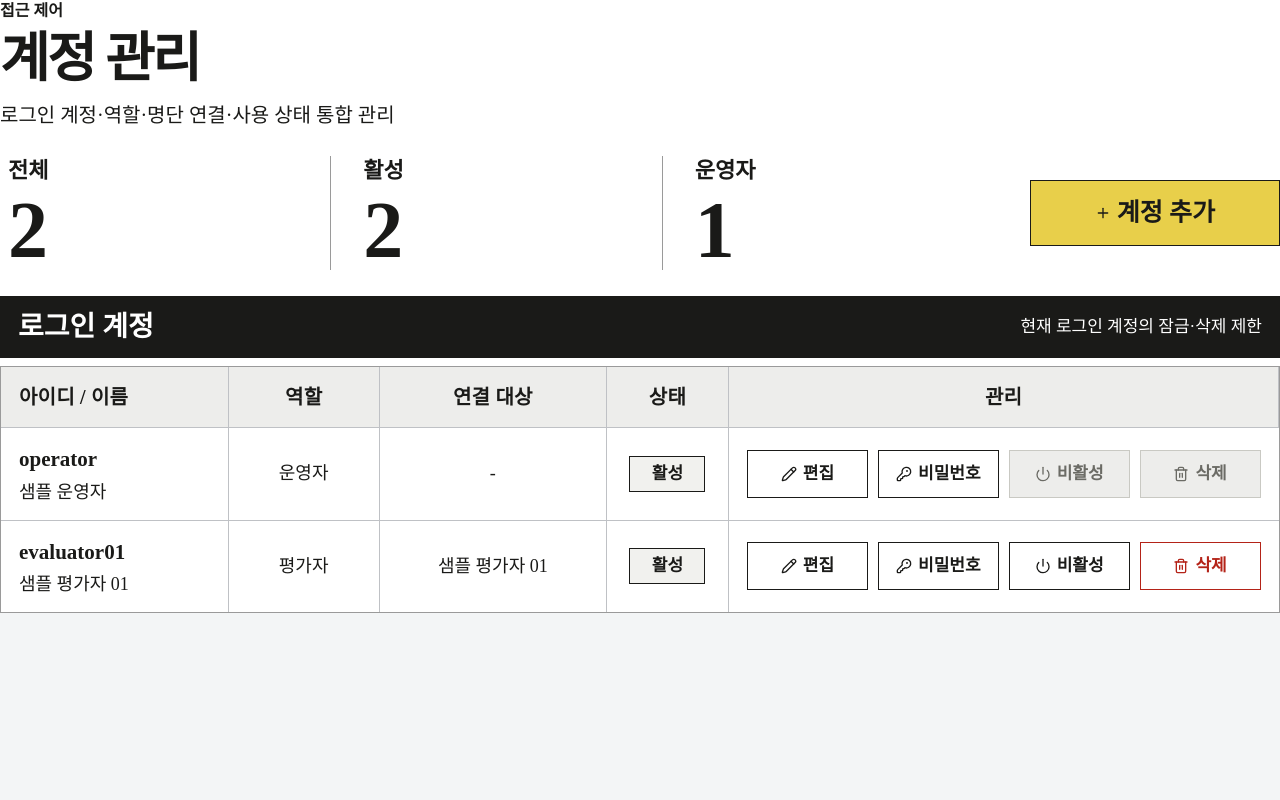
Test: AccountManagementPanel › blocks evaluator account creation until an evaluator is linked
Step 1. Click the button "계정 추가" → x=1155, y=213, box x1=1030 y1=180 x2=1279 y2=246
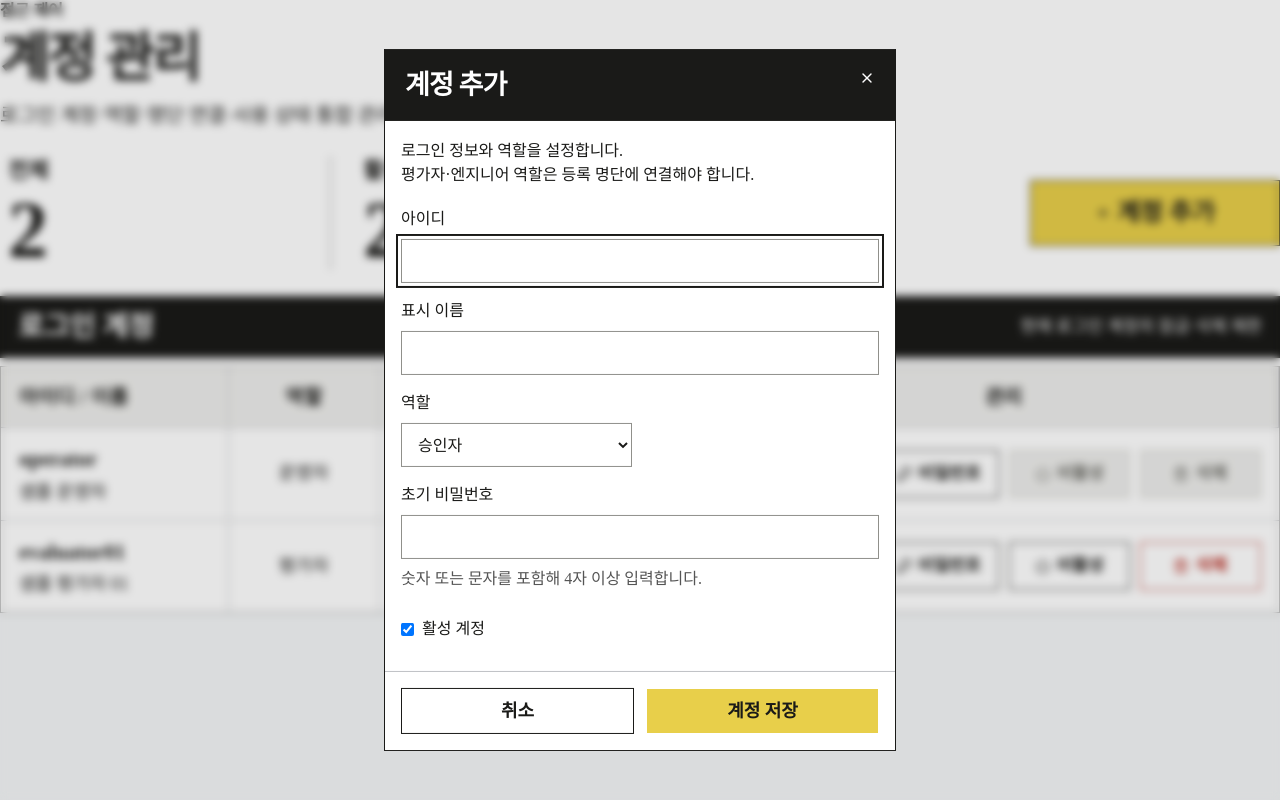
Step 2. Type "evaluator02" into the field labelled "아이디" → x=640, y=261, box x1=401 y1=239 x2=879 y2=283
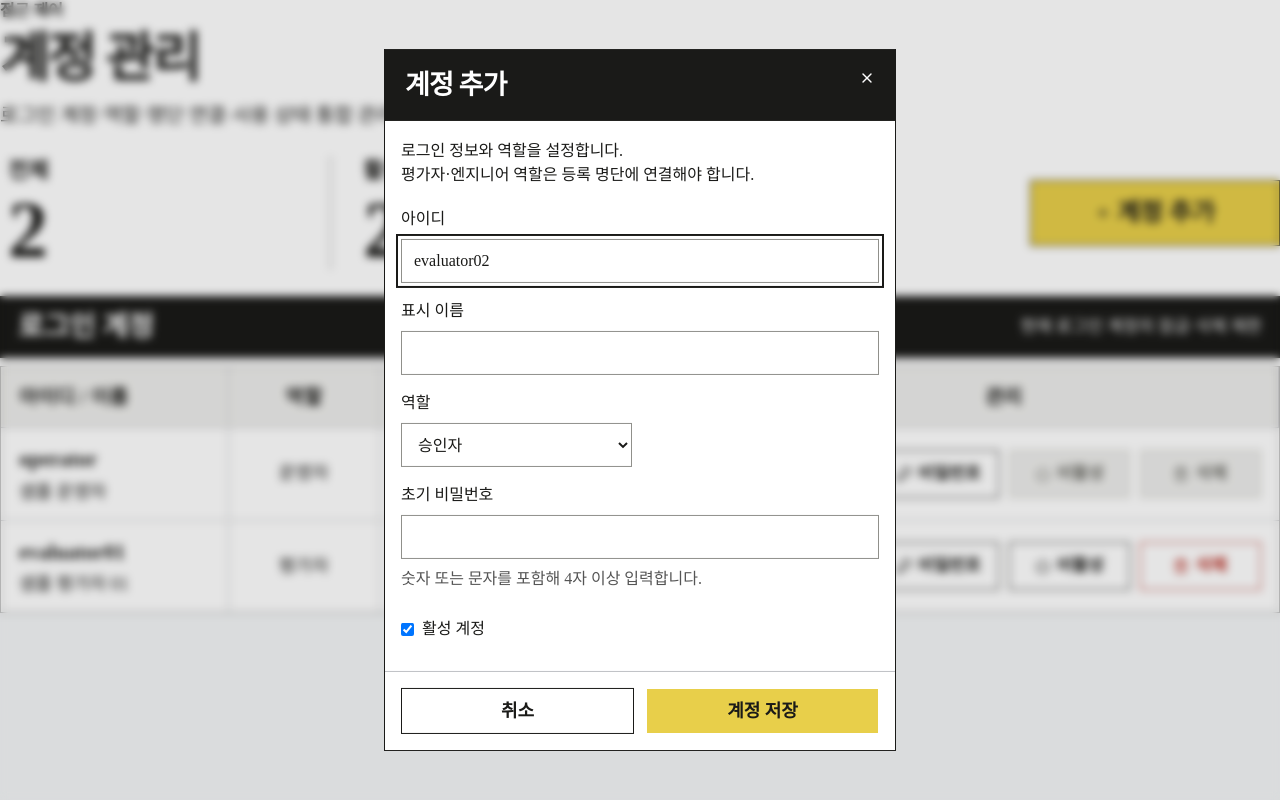
Step 3. Type "평가 담당자 02" into the field labelled "표시 이름" → x=640, y=353, box x1=401 y1=331 x2=879 y2=375
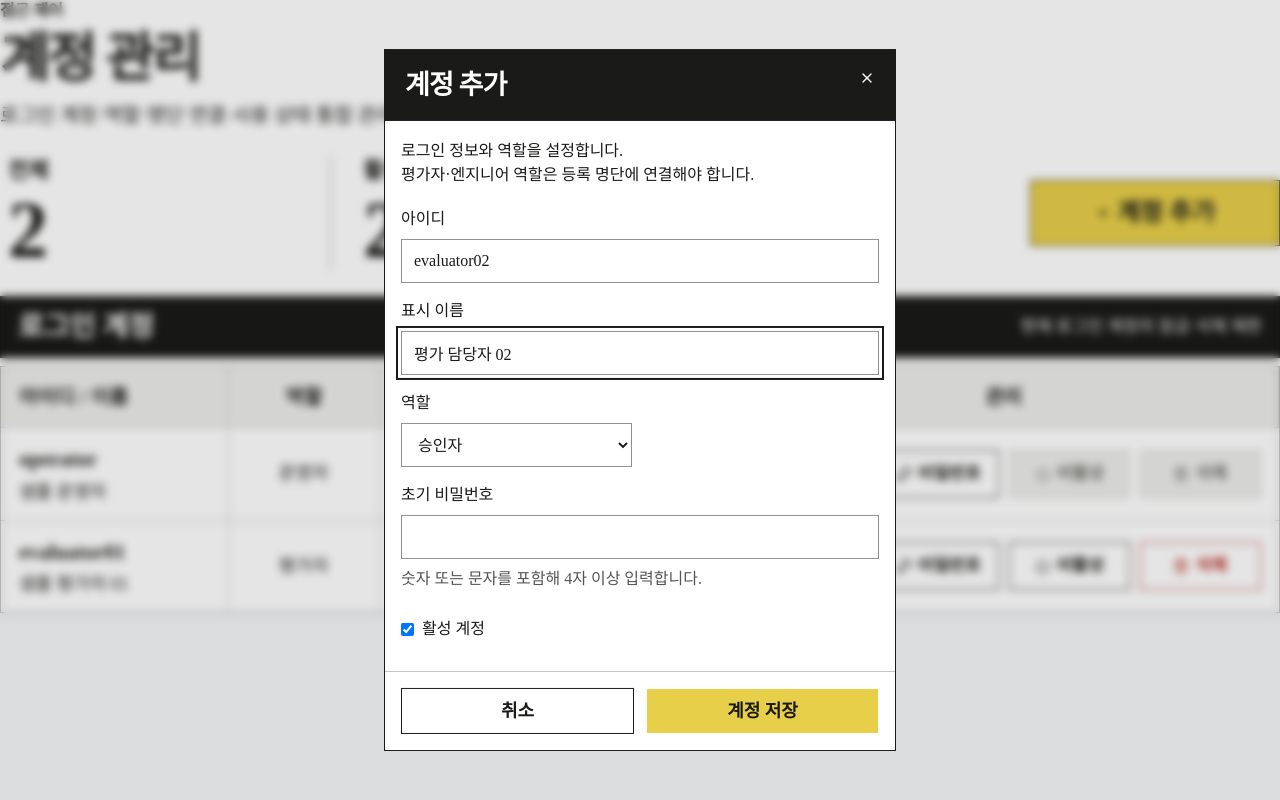
Step 4. Select "평가자" in the dropdown labelled "역할" → x=516, y=445, box x1=401 y1=423 x2=632 y2=467
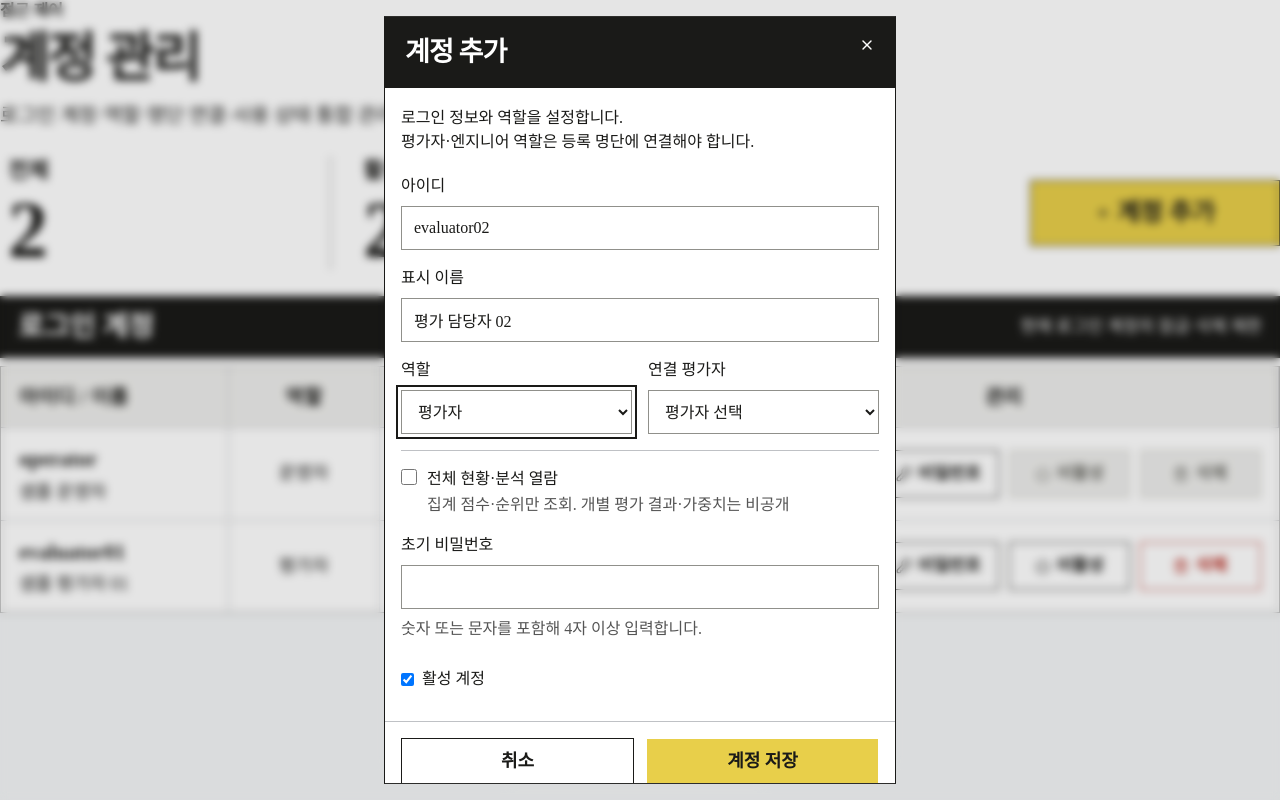
Step 5. Type "Evaluate!2026" into the password field labelled "초기 비밀번호" → x=640, y=587, box x1=401 y1=565 x2=879 y2=609
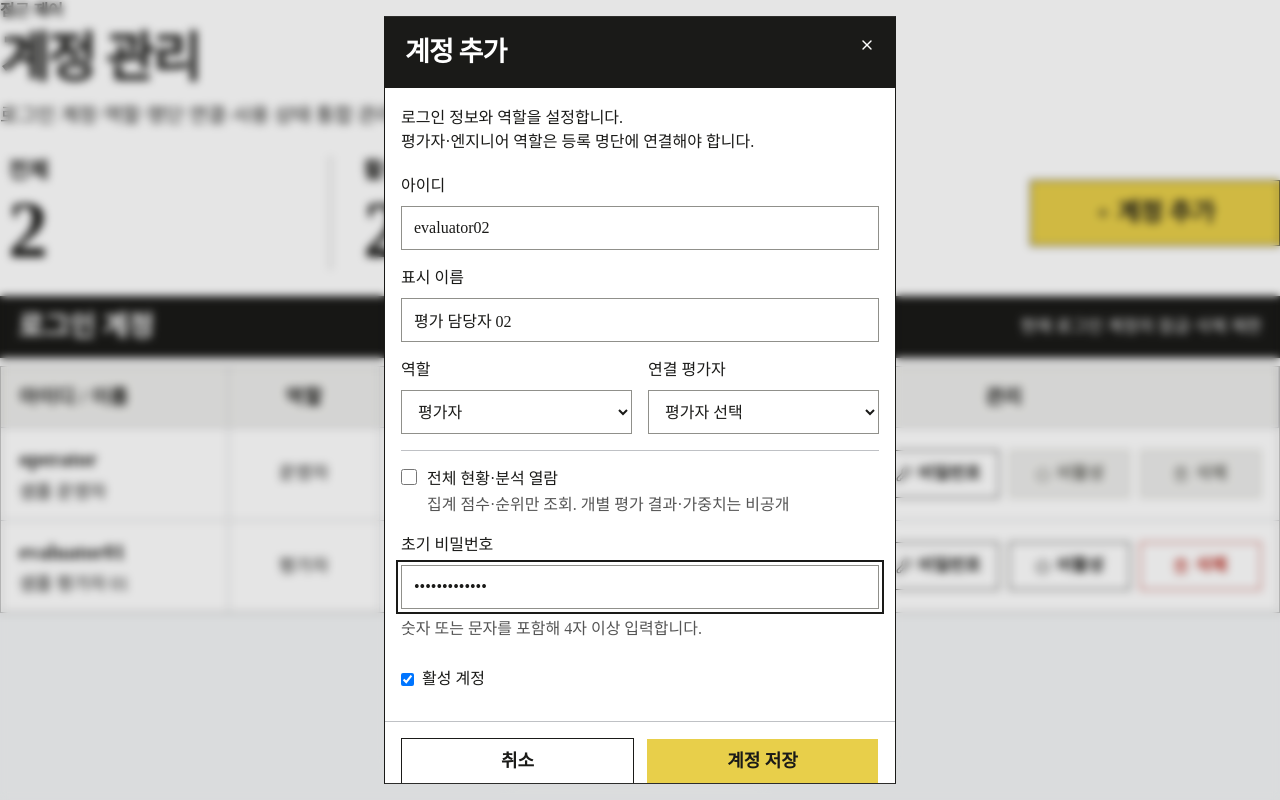
Step 6. Click the button "계정 저장" → x=762, y=761, box x1=646 y1=738 x2=879 y2=784
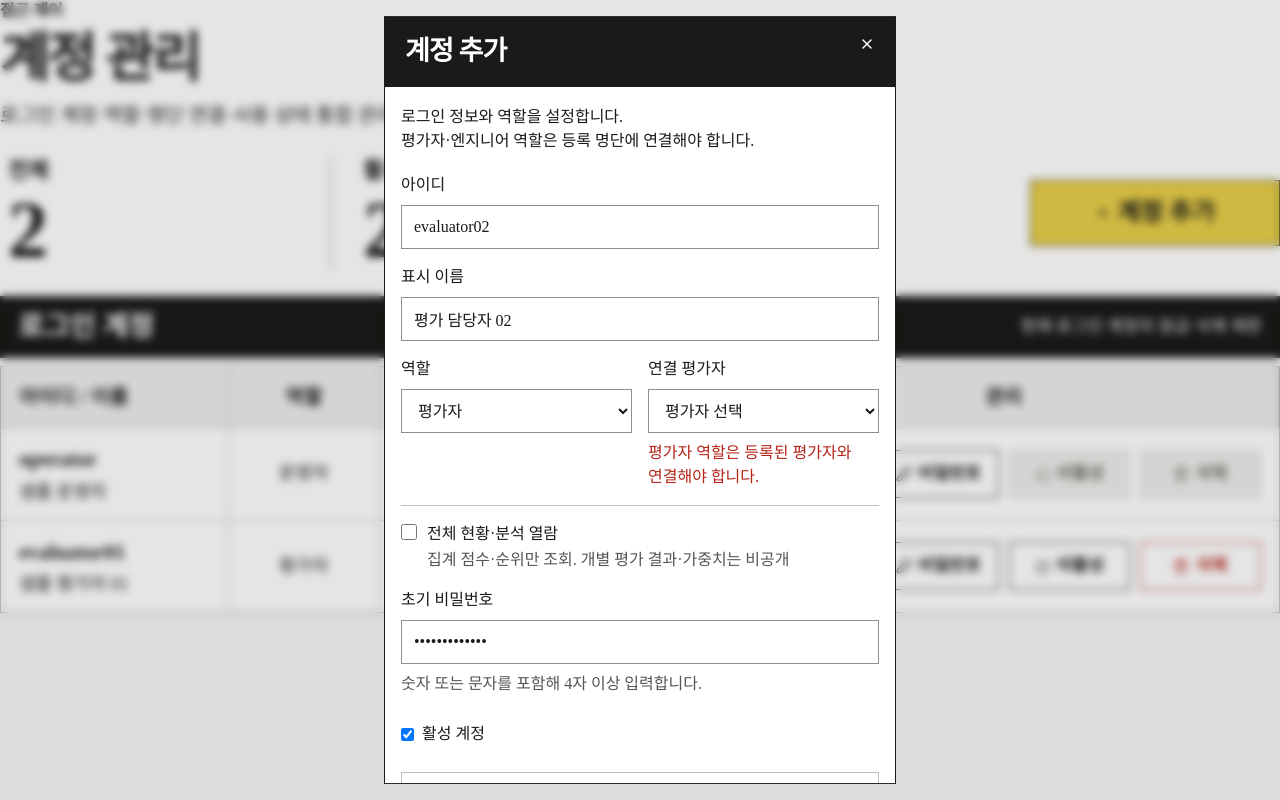
Now the text with test id "account-evaluator-error" reads "평가자 역할은 등록된 평가자와 연결해야 합니다.", box x1=648 y1=444 x2=851 y2=485
